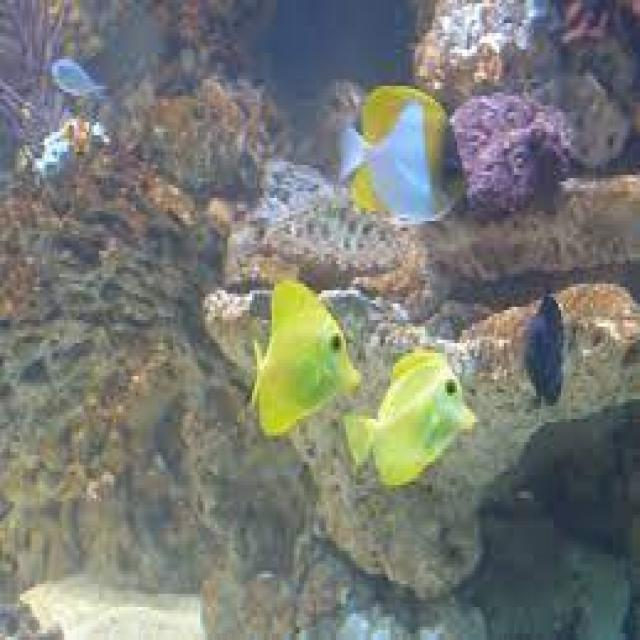YellowTang: (240, 272, 362, 448), (342, 332, 476, 487)
